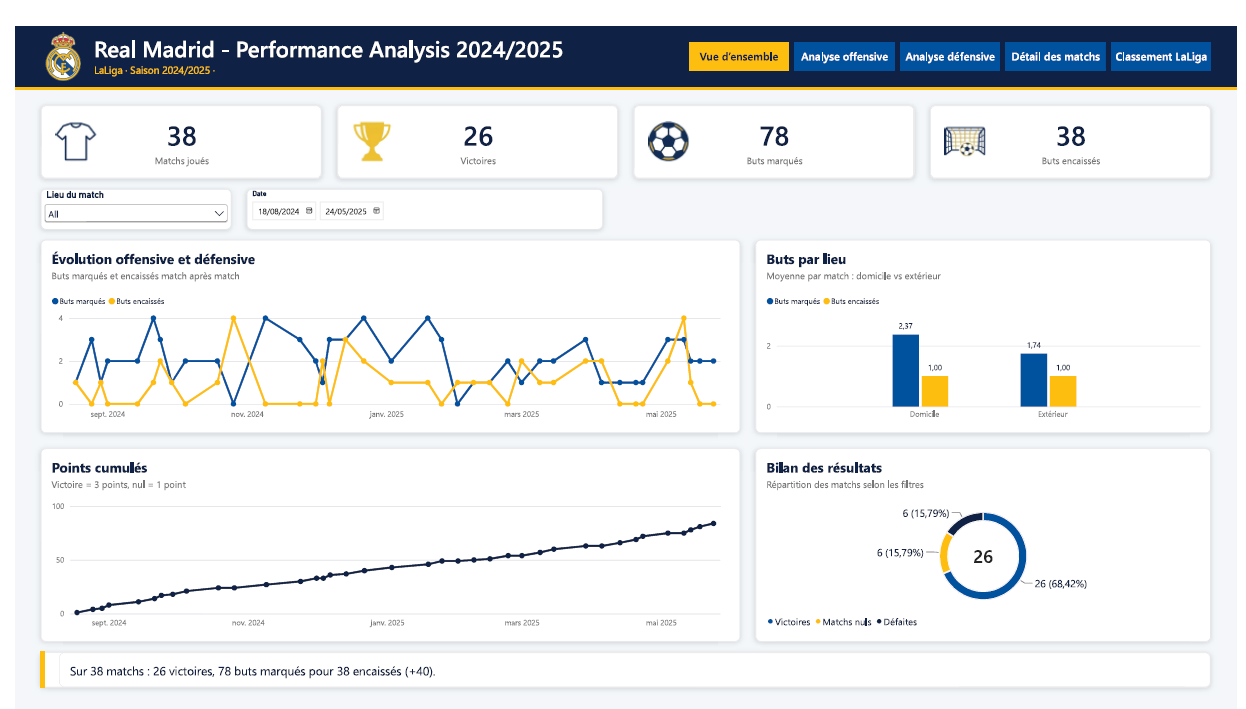

This screenshot's page, from the dashboard's own definition file:
{"tool":"powerbi","page":{"name":"Vue d’ensemble","canvas":[1920,1080],"ordinal":0},"visuals":[{"type":"shape","box":[0,0,1920,96],"z":0},{"type":"shape","box":[0,96,1920,4],"z":1},{"type":"textbox","box":[124,12,920,48],"z":2},{"type":"textbox","box":[124,58,920,30],"z":3},{"type":"image","box":[36,8,80,80],"z":4},{"type":"shape","box":[1060,26,156,44],"z":11},{"type":"shape","box":[1226,26,156,44],"z":12},{"type":"shape","box":[1392,26,156,44],"z":13},{"type":"shape","box":[1558,26,156,44],"z":14},{"type":"shape","box":[1724,26,156,44],"z":15},{"type":"textbox","box":[1060,35,156,35],"z":21},{"type":"textbox","box":[1226,35,156,35],"z":22},{"type":"textbox","box":[1392,35,156,35],"z":23},{"type":"textbox","box":[1558,35,156,35],"z":24},{"type":"textbox","box":[1724,35,156,35],"z":25},{"type":"actionButton","box":[1060,26,156,44],"z":31},{"type":"actionButton","box":[1226,26,156,44],"z":32},{"type":"actionButton","box":[1392,26,156,44],"z":33},{"type":"actionButton","box":[1558,26,156,44],"z":34},{"type":"actionButton","box":[1724,26,156,44],"z":35},{"type":"slicer","fields":{"Values":["Real_Madrid_2024_2025.Lieu du match"]},"box":[40,256,300,64],"z":60},{"type":"slicer","fields":{"Values":["Real_Madrid_2024_2025.Date"]},"box":[364,256,560,64],"z":61},{"type":"cardVisual","fields":{"Data":["Real_Madrid_2024_2025.Texte à retenir"]},"box":[40,984,1840,56],"z":70},{"type":"shape","box":[40,984,6,56],"z":71},{"type":"cardVisual","fields":{"Data":["Real_Madrid_2024_2025.Nombre de matchs"]},"box":[40,124,442,116],"z":100},{"type":"cardVisual","fields":{"Data":["Real_Madrid_2024_2025.Victoires"]},"box":[506,124,442,116],"z":101},{"type":"cardVisual","fields":{"Data":["Real_Madrid_2024_2025.Buts marqués"]},"box":[972,124,442,116],"z":102},{"type":"cardVisual","fields":{"Data":["Real_Madrid_2024_2025.Buts encaissés"]},"box":[1438,124,442,116],"z":103},{"type":"lineChart","title":"Évolution offensive et défensive","fields":{"Category":["Real_Madrid_2024_2025.Date"],"Y":["Sum(Real_Madrid_2024_2025.Buts par match)","Sum(Real_Madrid_2024_2025.Encaissés par match)"]},"box":[40,336,1100,304],"z":200},{"type":"clusteredColumnChart","title":"Buts par lieu","fields":{"Category":["Real_Madrid_2024_2025.Lieu du match"],"Y":["Average(Real_Madrid_2024_2025.Buts par match)","Average(Real_Madrid_2024_2025.Encaissés par match)"]},"box":[1164,336,716,304],"z":201},{"type":"donutChart","title":"Bilan des résultats","fields":{"Y":["Real_Madrid_2024_2025.Victoires","Real_Madrid_2024_2025.Matchs nuls","Real_Madrid_2024_2025.Défaites"]},"box":[1164,664,716,304],"z":202},{"type":"lineChart","title":"Points cumulés","fields":{"Category":["Real_Madrid_2024_2025.Date"],"Y":["Real_Madrid_2024_2025.Points cumulés"]},"box":[40,664,1100,304],"z":204},{"type":"image","box":[64,150,64,64],"z":300},{"type":"image","box":[530,150,64,64],"z":301},{"type":"image","box":[996,150,64,64],"z":302},{"type":"image","box":[1462,150,64,64],"z":303}]}

Visuals, with their boxes in screenshot pixels (x1, y1, x2, y2), scaled from the page's 1920x1080 canvas onto the 1246x709 screenshot:
shape: rect(0, 0, 1245, 63)
shape: rect(0, 63, 1245, 66)
textbox: rect(80, 8, 678, 39)
textbox: rect(80, 38, 678, 58)
image: rect(23, 5, 75, 58)
shape: rect(688, 17, 789, 46)
shape: rect(796, 17, 897, 46)
shape: rect(903, 17, 1005, 46)
shape: rect(1011, 17, 1112, 46)
shape: rect(1119, 17, 1220, 46)
textbox: rect(688, 23, 789, 46)
textbox: rect(796, 23, 897, 46)
textbox: rect(903, 23, 1005, 46)
textbox: rect(1011, 23, 1112, 46)
textbox: rect(1119, 23, 1220, 46)
actionButton: rect(688, 17, 789, 46)
actionButton: rect(796, 17, 897, 46)
actionButton: rect(903, 17, 1005, 46)
actionButton: rect(1011, 17, 1112, 46)
actionButton: rect(1119, 17, 1220, 46)
slicer - Real_Madrid_2024_2025.Lieu du match: rect(26, 168, 221, 210)
slicer - Real_Madrid_2024_2025.Date: rect(236, 168, 600, 210)
cardVisual - Real_Madrid_2024_2025.Texte à retenir: rect(26, 646, 1220, 683)
shape: rect(26, 646, 30, 683)
cardVisual - Real_Madrid_2024_2025.Nombre de matchs: rect(26, 81, 313, 158)
cardVisual - Real_Madrid_2024_2025.Victoires: rect(328, 81, 615, 158)
cardVisual - Real_Madrid_2024_2025.Buts marqués: rect(631, 81, 918, 158)
cardVisual - Real_Madrid_2024_2025.Buts encaissés: rect(933, 81, 1220, 158)
"Évolution offensive et défensive" lineChart: rect(26, 221, 740, 420)
"Buts par lieu" clusteredColumnChart: rect(755, 221, 1220, 420)
"Bilan des résultats" donutChart: rect(755, 436, 1220, 635)
"Points cumulés" lineChart: rect(26, 436, 740, 635)
image: rect(42, 98, 83, 140)
image: rect(344, 98, 385, 140)
image: rect(646, 98, 688, 140)
image: rect(949, 98, 990, 140)
